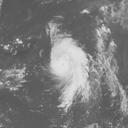cyclone: (48, 37, 95, 109)
